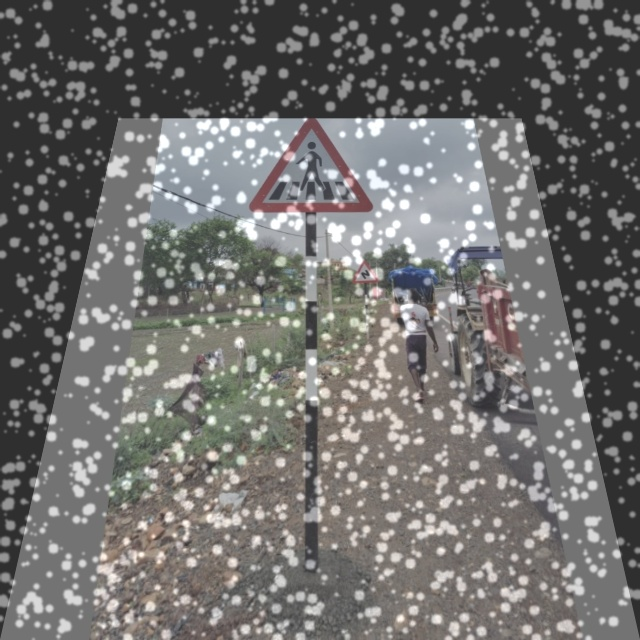Pedestrian_Crossing: (245, 118, 372, 213)
